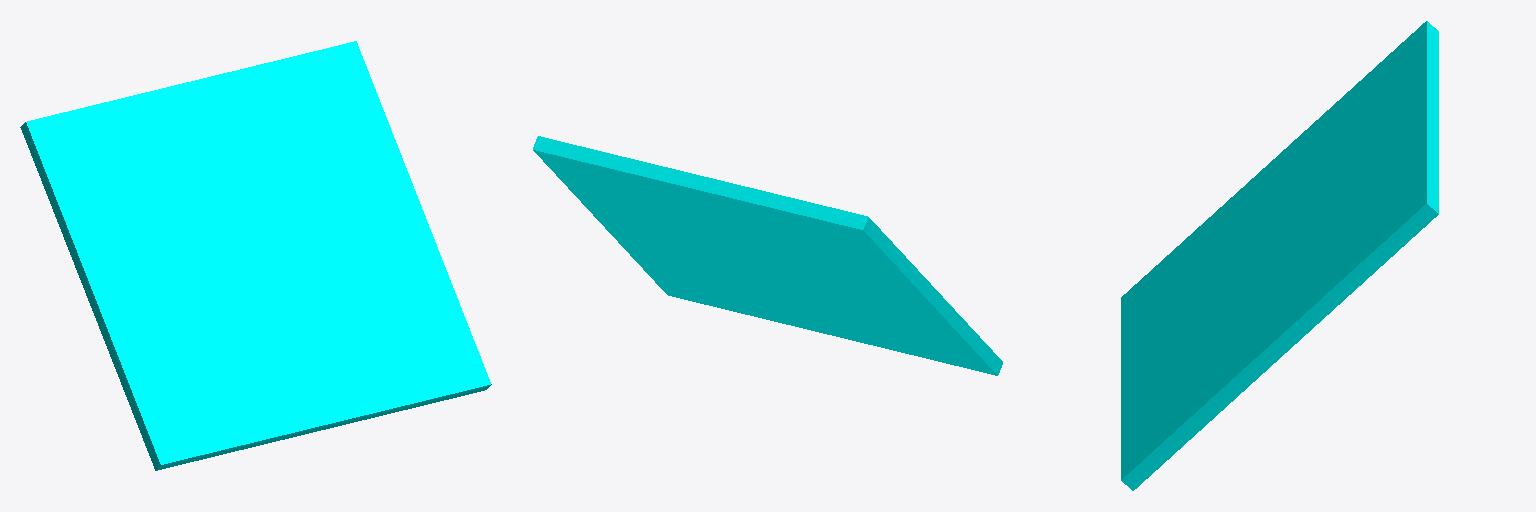
The robot description file, URDF, robot "panda_collision":
<?xml version='1.0' encoding='utf-8'?>
<robot name="panda_collision">

	<material name="red">
		<color rgba="153 0 0 1"/>
	</material>
	<material name="blue">
		<color rgba="0 102 102 1"/>
	</material>

    <link name="link0">
      <inertial>
        <origin xyz="0 0 0.05" rpy="0 0 0" />
        <mass value="4" />
        <inertia ixx="0.4" iyy="0.4" izz="0.4" ixy="0" ixz="0" iyz="0" />
      </inertial>
      <visual>
        <geometry>
          <mesh filename="../../../model/panda/meshes/visual/link0.obj"/>
        </geometry>
      </visual>
      <collision>
        <!--<geometry>
          <mesh filename="../../../model/panda/meshes/collision/link0.obj"/>
        </geometry> -->
      </collision>
    </link>
    <link name="link1">
      <inertial>
        <origin xyz="0 0 -0.07" rpy="0 -0 0" />
        <mass value="4" />
        <inertia ixx="0.3" iyy="0.3" izz="0.3" ixy="0" ixz="0" iyz="0" />
      </inertial>
      <visual>
        <geometry>
          <mesh filename="../../../model/panda/meshes/visual/link1.obj"/>
        </geometry>
      </visual>
      <collision>
        <!--<geometry>
          <mesh filename="../../../model/panda/meshes/collision/link1.obj"/>
        </geometry>-->
      </collision>
    </link>
    <link name="link2">
      <inertial>
        <origin xyz="0 -0.1 0" rpy="0 0 0" />
        <mass value="3" />
        <inertia ixx="0.3" iyy="0.3" izz="0.3" ixy="0" ixz="0" iyz="0" />
      </inertial>
      <visual>
        <geometry>
          <mesh filename="../../../model/panda/meshes/visual/link2.obj"/>
        </geometry>
      </visual>
      <collision>
        <!--<geometry>
          <mesh filename="../../../model/panda/meshes/collision/link2.obj"/>
        </geometry>-->
      </collision>
    </link>
    <link name="link3">
      <inertial>
        <origin xyz="0.04 0 -0.05" rpy="0 0 0" />
        <mass value="3" />
        <inertia ixx="0.2" iyy="0.2" izz="0.2" ixy="0" ixz="0" iyz="0" />
      </inertial>
      <visual>
        <geometry>
          <mesh filename="../../../model/panda/meshes/visual/link3.obj"/>
        </geometry>
      </visual>
      <collision>
        <!--<geometry>
          <mesh filename="../../../model/panda/meshes/collision/link3.obj"/>
        </geometry>-->
      </collision>
    </link>
    <link name="link4">
      <inertial>
        <origin xyz="-0.04 0.05 0" rpy="0 0 0" />
        <mass value="3" />
        <inertia ixx="0.2" iyy="0.2" izz="0.2" ixy="0" ixz="0" iyz="0" />
      </inertial>
      <visual>
        <geometry>
          <mesh filename="../../../model/panda/meshes/visual/link4.obj"/>
        </geometry>
      </visual>
      <collision>
        <geometry>
          <mesh filename="../../../model/panda/meshes/collision/link4.obj"/>
        </geometry>
      </collision>
    </link>
    <link name="link5">
      <inertial>
        <origin xyz="0 0 -0.15" rpy="0 0 0" />
        <mass value="3" />
        <inertia ixx="0.2" iyy="0.2" izz="0.2" ixy="0" ixz="0" iyz="0" />
      </inertial>
      <visual>
        <geometry>
          <mesh filename="../../../model/panda/meshes/visual/link5.obj"/>
        </geometry>
      </visual>
      <collision>
        <!--<geometry>
          <mesh filename="../../../model/panda/meshes/collision/link5.obj"/>
        </geometry>-->
      </collision>
    </link>
    <link name="link6">
      <inertial>
        <origin xyz="0.06 0 0" rpy="0 0 0" />
        <mass value="2" />
        <inertia ixx="0.1" iyy="0.1" izz="0.1" ixy="0" ixz="0" iyz="0" />
      </inertial>
      <visual>
        <geometry>
          <mesh filename="../../../model/panda/meshes/visual/link6.obj"/>
        </geometry>
      </visual>
      <collision>
        <geometry>
          <mesh filename="../../../model/panda/meshes/collision/link6.obj"/>
        </geometry>
      </collision>
    </link>
    <link name="link7">
      <inertial>
        <origin xyz="0 0 0.17" rpy="0 0 0" />
        <mass value="0.5" />
        <inertia ixx="0.09" iyy="0.05" izz="0.07" ixy="0" ixz="0" iyz="0" />
      </inertial>
      <visual>
        <geometry>
          <mesh filename="../../../model/panda/meshes/visual/link7.obj"/>
        </geometry>
      </visual>
      <collision>
        <geometry>
          <mesh filename="../../../model/panda/meshes/collision/link7.obj"/>
        </geometry>
      </collision>
    </link>
    <link name="plate">
      <inertial>
        <origin xyz="0 0 0.0" rpy="0 -0 0" />
        <mass value="0.0001" />
        <inertia ixx="0.01" iyy="0.01" izz="0.005" ixy="0" ixz="0" iyz="0" />
      </inertial>
      <visual>
	<origin xyz ="0 .1 -.125" rpy="0 0 0" />
        <geometry>
          <box size="0.25 0.01 0.25"/>
        </geometry>
	<material name="blue"/>
      </visual>
      <collision>
	<origin xyz ="0 .1 -.125" rpy="0 0 0" />
        <geometry>
          <box size="0.25 0.01 0.25"/>
        </geometry>
	<material name="blue"/>
      </collision>
    </link>
    <joint name="joint1" type="revolute">
      <safety_controller k_position="100.0" k_velocity="40.0" soft_lower_limit="-2.8973" soft_upper_limit="2.8973"/>
      <origin rpy="0 0 1.5708" xyz="0 0 0.333"/>
      <parent link="link0"/>
      <child link="link1"/>
      <axis xyz="0 0 1"/>
      <calibration falling="-80.0" />
      <limit effort="87" lower="-2.8973" upper="2.8973" velocity="2.1750"/>
    </joint>
    <joint name="joint2" type="revolute">
      <safety_controller k_position="100.0" k_velocity="40.0" soft_lower_limit="-1.7628" soft_upper_limit="1.7628"/>
      <origin rpy="-1.57079632679 0 0" xyz="0 0 0"/>
      <parent link="link1"/>
      <child link="link2"/>
      <axis xyz="0 0 1"/>
      <calibration falling="-45.0" />
      <limit effort="87" lower="-1.7628" upper="1.7628" velocity="2.1750"/>
    </joint>
    <joint name="joint3" type="revolute">
      <safety_controller k_position="100.0" k_velocity="40.0" soft_lower_limit="-2.8973" soft_upper_limit="2.8973"/>
      <origin rpy="1.57079632679 0 0" xyz="0 -0.316 0"/>
      <parent link="link2"/>
      <child link="link3"/>
      <axis xyz="0 0 1"/>
      <limit effort="87" lower="-2.8973" upper="2.8973" velocity="2.1750"/>
    </joint>
    <joint name="joint4" type="revolute">
      <safety_controller k_position="100.0" k_velocity="40.0" soft_lower_limit="-3.0718" soft_upper_limit="-0.0698"/>
      <origin rpy="1.57079632679 0 0" xyz="0.0825 0 0"/>
      <parent link="link3"/>
      <child link="link4"/>
      <axis xyz="0 0 1"/>
      <calibration falling="-125.0" />
      <limit effort="87" lower="-3.0718" upper="-0.0698" velocity="2.1750"/>
    </joint>
    <joint name="joint5" type="revolute">
      <safety_controller k_position="100.0" k_velocity="40.0" soft_lower_limit="-2.8973" soft_upper_limit="2.8973"/>
      <origin rpy="-1.57079632679 0 0" xyz="-0.0825 0.384 0"/>
      <parent link="link4"/>
      <child link="link5"/>
      <axis xyz="0 0 1"/>
      <limit effort="12" lower="-2.8973" upper="2.8973" velocity="2.6100"/>
    </joint>
    <joint name="joint6" type="revolute">
      <safety_controller k_position="100.0" k_velocity="40.0" soft_lower_limit="-0.0175" soft_upper_limit="3.7525"/>
      <origin rpy="0 0 0" xyz="0 0 0"/>
      <parent link="link5"/>
      <child link="link6"/>
      <axis xyz="0 0 1"/>
      <calibration falling="80.0" />
      <limit effort="12" lower="-0.0175" upper="3.7525" velocity="2.6100"/>
    </joint>
    <joint name="joint7" type="revolute">
      <safety_controller k_position="100.0" k_velocity="40.0" soft_lower_limit="-2.8973" soft_upper_limit="2.8973"/>
      <origin rpy="1.57079632679 0 0" xyz="0.088 0 0"/>
      <parent link="link6"/>
      <child link="link7"/>
      <axis xyz="0 0 1"/>
      <limit effort="12" lower="-2.8973" upper="2.8973" velocity="2.6100"/>
    </joint>
    <joint name="plate_joint" type="fixed">
      <parent link="link7"/>
      <child link="plate"/>
      <origin xyz="0 0 0.1654" rpy="0 0 -0.78539816339"/>
      <axis xyz="0 0 1"/>
    </joint>
</robot>

--- Render facts (derived) ---
3 views of the same robot in one strip: view 1: azimuth 30°, elevation 25°; view 2: azimuth 150°, elevation 25°; view 3: azimuth 270°, elevation 25° (orthographic).
Model panda_collision with 9 links and 8 joints (7 revolute, 1 fixed), rooted at link0, posed all joints at 0 but 1 set to mid-range because 0 is outside their limits (joint4 = -1.57).
Links seen in each view (by area): view 1: plate; view 2: plate; view 3: plate.
Link boxes in pixels (x1=…): plate: x1=20, y1=41, x2=491, y2=470; plate: x1=533, y1=136, x2=1002, y2=375; plate: x1=1121, y1=21, x2=1438, y2=490.
Bounding box of the posed robot: 0.25 × 0.1838 × 0.1838 m (x, y, z).
Geometry: only primitive shapes (box / cylinder / sphere) drawn; not drawn: 8 mesh visuals (reference in a form the renderer does not follow).